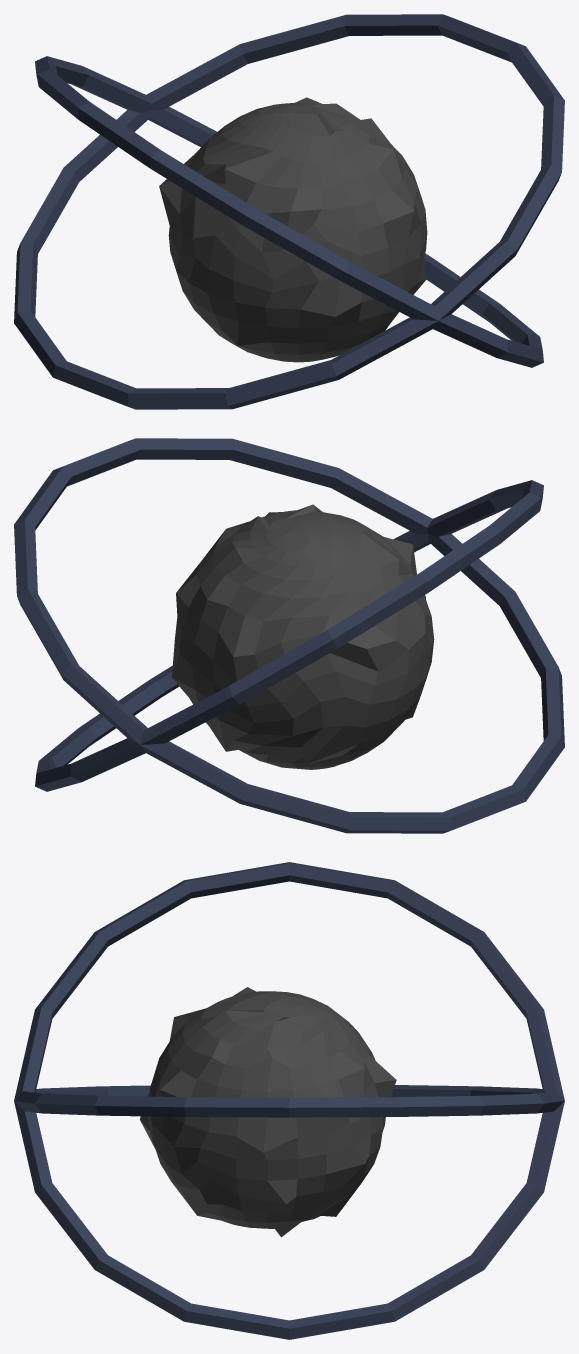
File: Planet2.glb
3 renders of one model, top to bottom at view 1: azimuth 30°, elevation 25°; view 2: azimuth 150°, elevation 25°; view 3: azimuth 270°, elevation 25°, orthographic. The views are drawn at different scales.
Visible parts, largest first — view 1: Planet2; view 2: Planet2; view 3: Planet2.
Boxes of the visible parts, x1,y1,x2,y2 form: Planet2: (14, 14, 564, 409); Planet2: (14, 438, 564, 833); Planet2: (14, 862, 564, 1339).
Bounding box in the file's own units: 22.73 × 14.63 × 24.8.
1 material, 1 textured.
